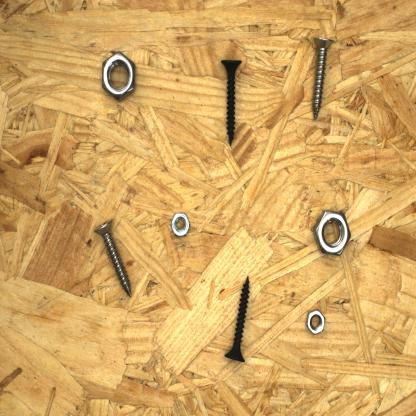screw: (92, 214, 134, 300), (222, 274, 251, 365), (306, 34, 335, 124), (218, 56, 242, 149)
